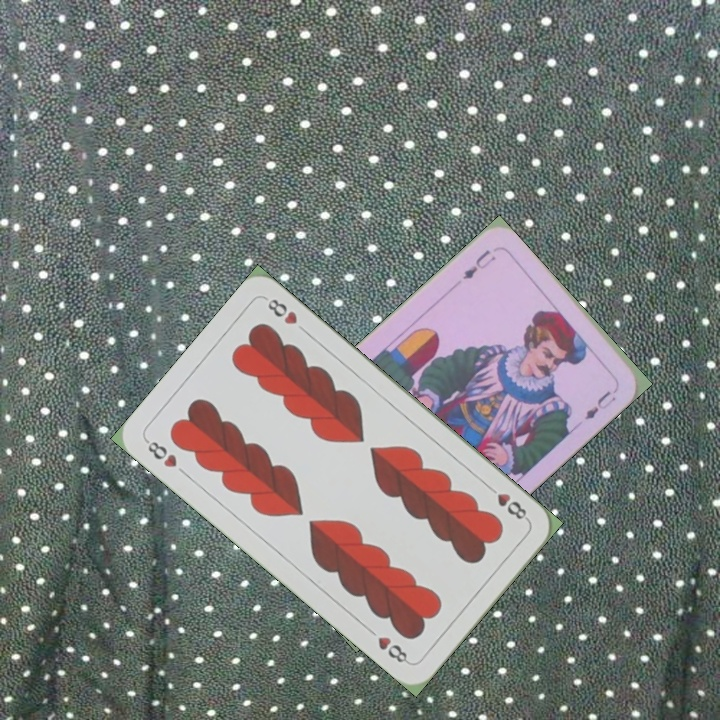EU: (459, 245, 499, 283)
H8: (483, 481, 532, 524), (141, 435, 180, 471)
